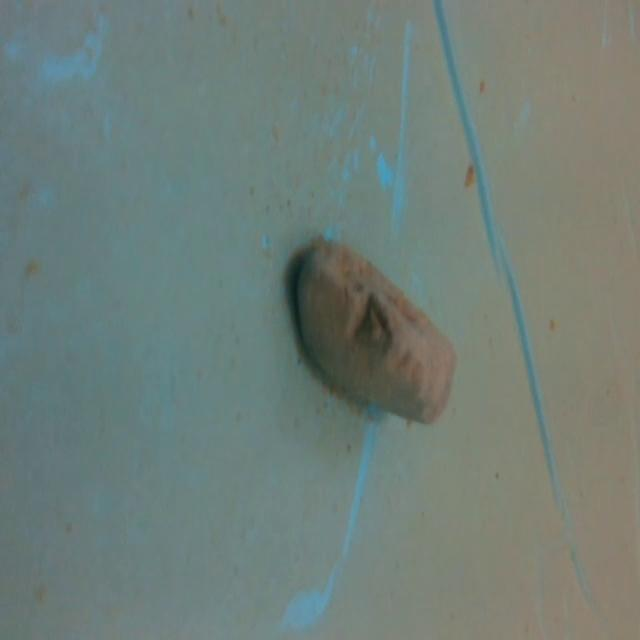rock: (284, 224, 465, 436)
